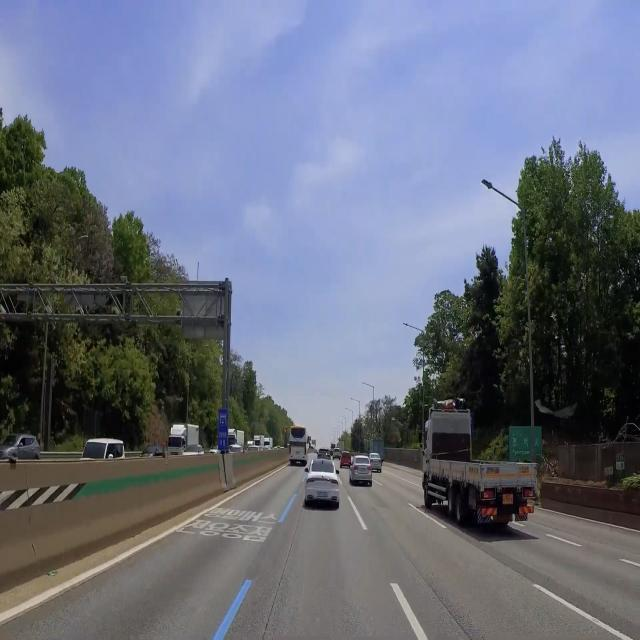car: (500, 488, 517, 511), (315, 490, 330, 501), (358, 466, 369, 476)
